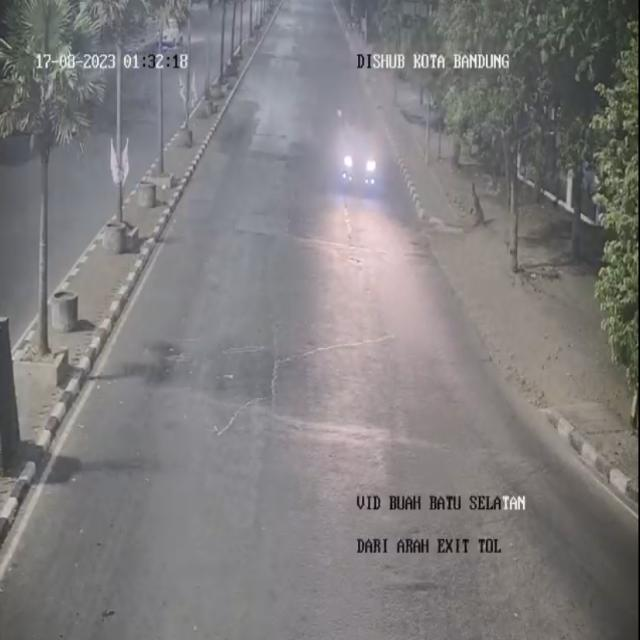cars: (327, 104, 381, 204)
